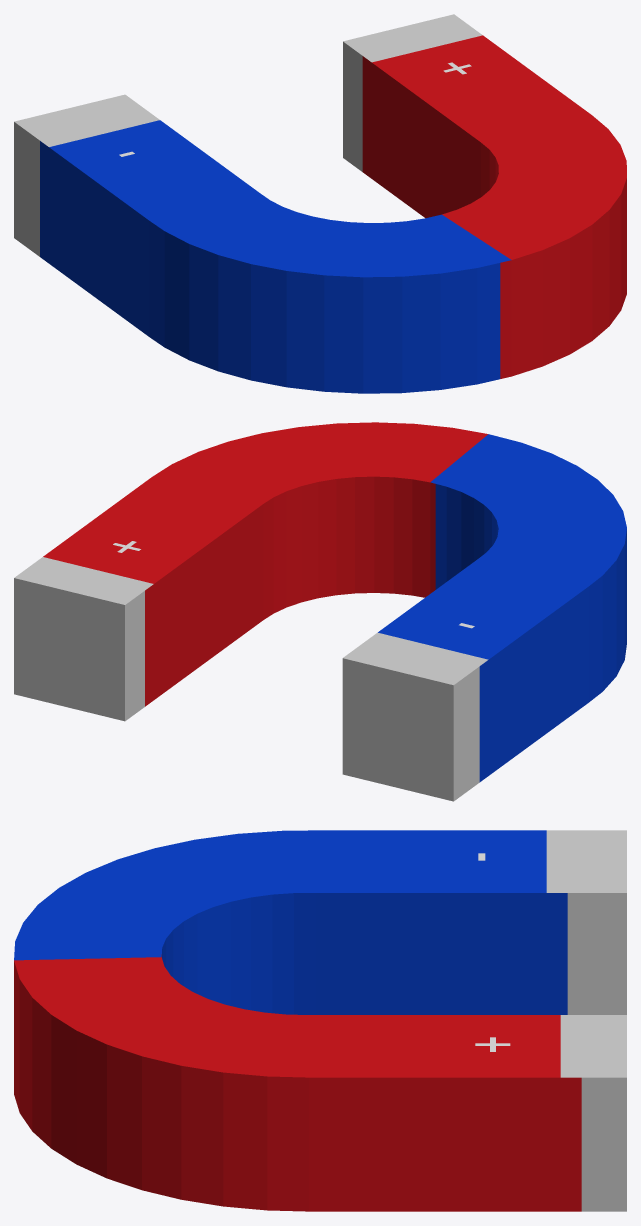
Rendered from MagnetPU.fbx.
3 views of the same model, one above another, from view 1: azimuth 30°, elevation 25°; view 2: azimuth 150°, elevation 25°; view 3: azimuth 270°, elevation 25° (orthographic). The views are drawn at different scales.
Visible parts, largest first — view 1: Cube; view 2: Cube; view 3: Cube.
Boxes of the visible parts, x1,y1,x2,y2 form: Cube: (14,14,626,393); Cube: (14,422,626,801); Cube: (14,830,626,1211).
Bounding box in the file's own units: 791 × 203 × 829.
